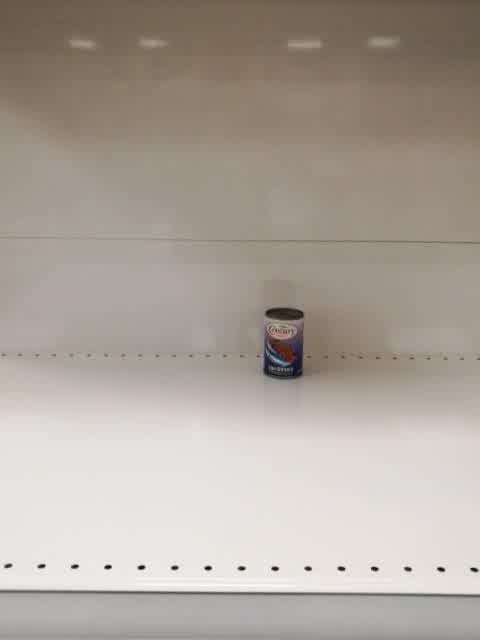sardine: (262, 306, 306, 381)
